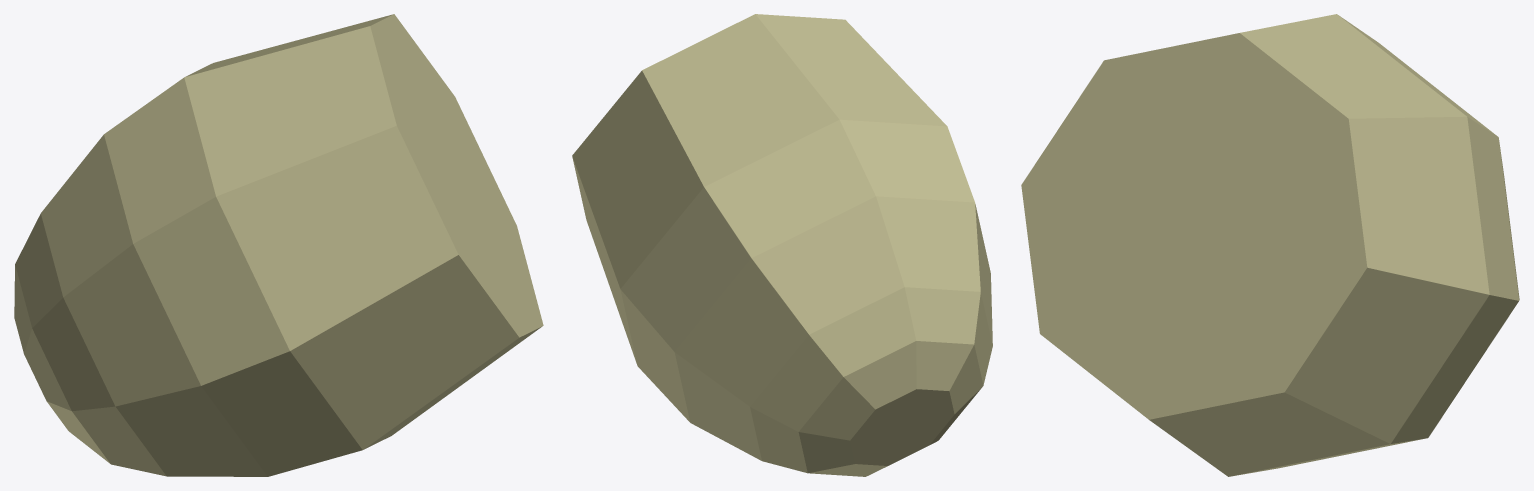
The model's file is shroomhalf1.fbx.
3 renders of one model, left to right at view 1: azimuth 30°, elevation 25°; view 2: azimuth 150°, elevation 25°; view 3: azimuth 270°, elevation 25°, orthographic. The views are drawn at different scales.
Parts seen in each view (by area): view 1: Cylinder.005; view 2: Cylinder.005; view 3: Cylinder.005.
Part boxes in pixels (x1,y1,x2,y2): Cylinder.005: (14, 14, 543, 476); Cylinder.005: (572, 14, 992, 476); Cylinder.005: (1021, 14, 1519, 476).
Size of the model in its own units: 3.92 by 3.58 by 3.46.
